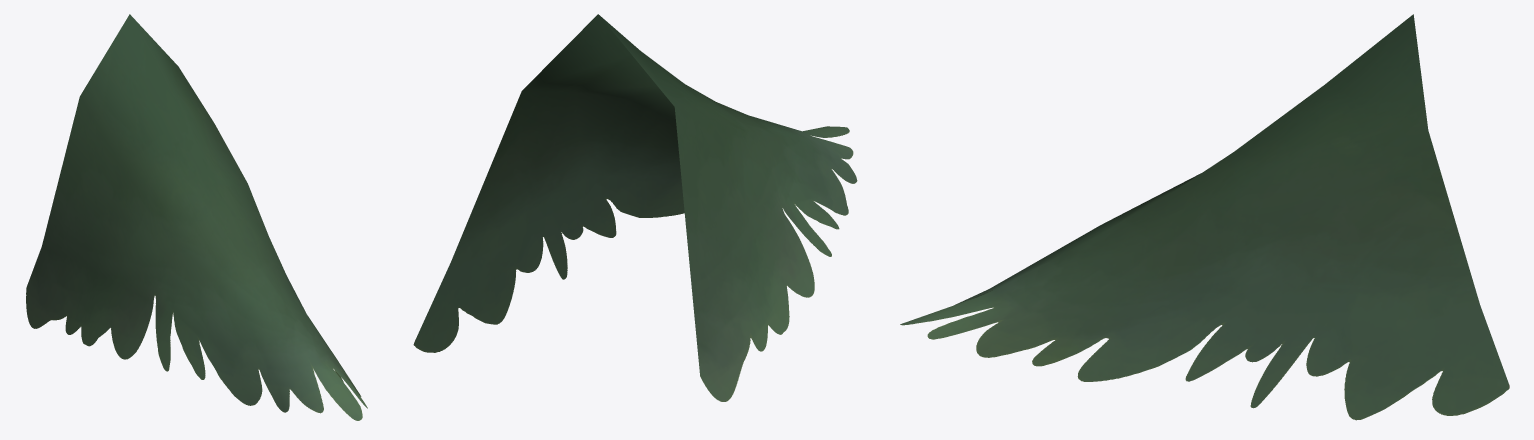
The model's file is branch D.FBX.
The picture shows the model from 3 angles, left to right: view 1: azimuth 30°, elevation 25°; view 2: azimuth 150°, elevation 25°; view 3: azimuth 270°, elevation 25°; orthographic projection. The views are drawn at different scales.
Parts seen in each view (by area): view 1: branch D; view 2: branch D; view 3: branch D.
Boxes of the visible parts, x1=… form: branch D: x1=26, y1=14, x2=367, y2=420; branch D: x1=413, y1=14, x2=857, y2=401; branch D: x1=900, y1=14, x2=1509, y2=420.
Bounding box in the file's own units: 214 × 279 × 456.
